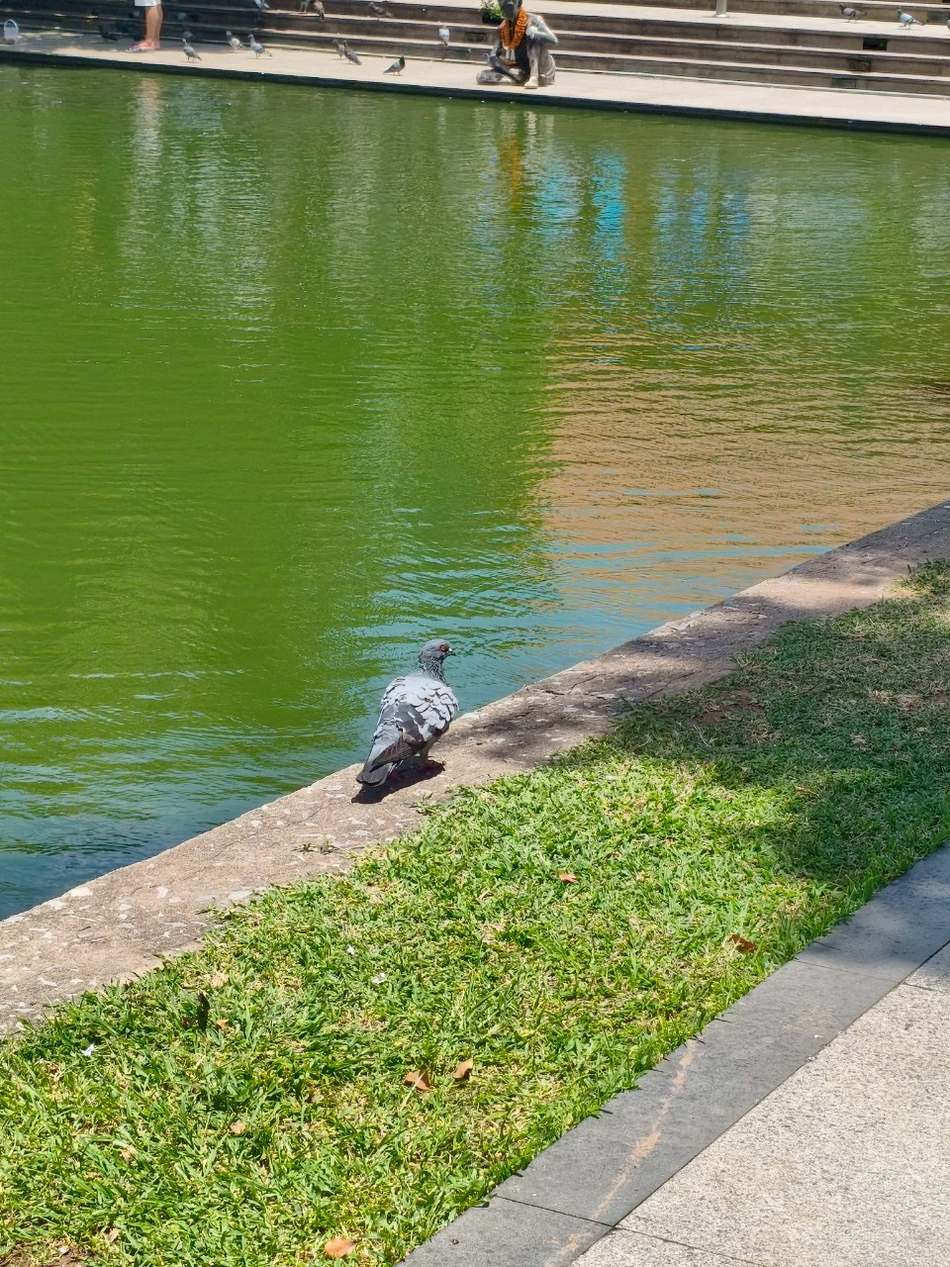Pigeon: (357, 639, 458, 793)
